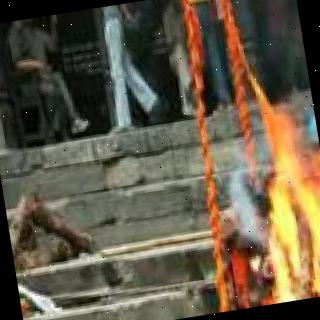fire: (239, 91, 320, 304)
